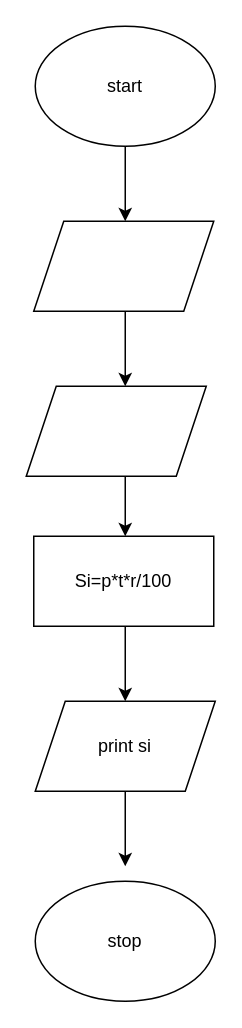
Some shapes in this 242 by 1028 pixel diagram are drawn without their labels. Each missing label, with the centre of its shape:
"declare p,t,r,Si variables" goes at (x=123, y=265).
"read the variables" goes at (x=115, y=430).
